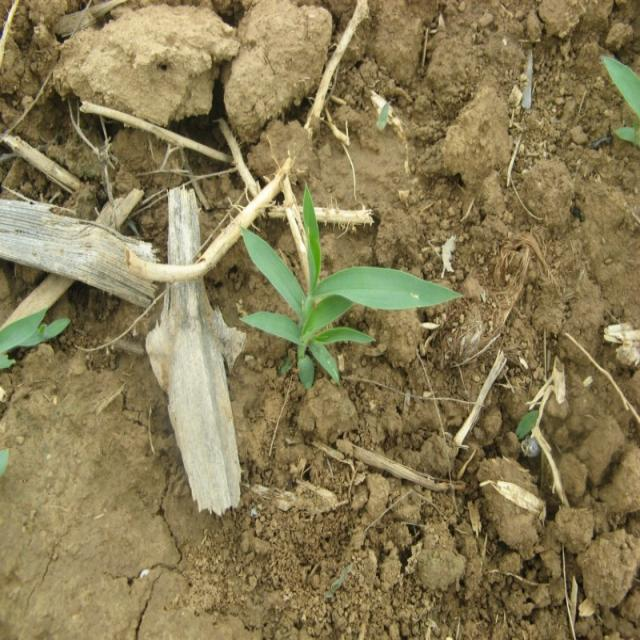bg: (235, 182, 465, 378)
